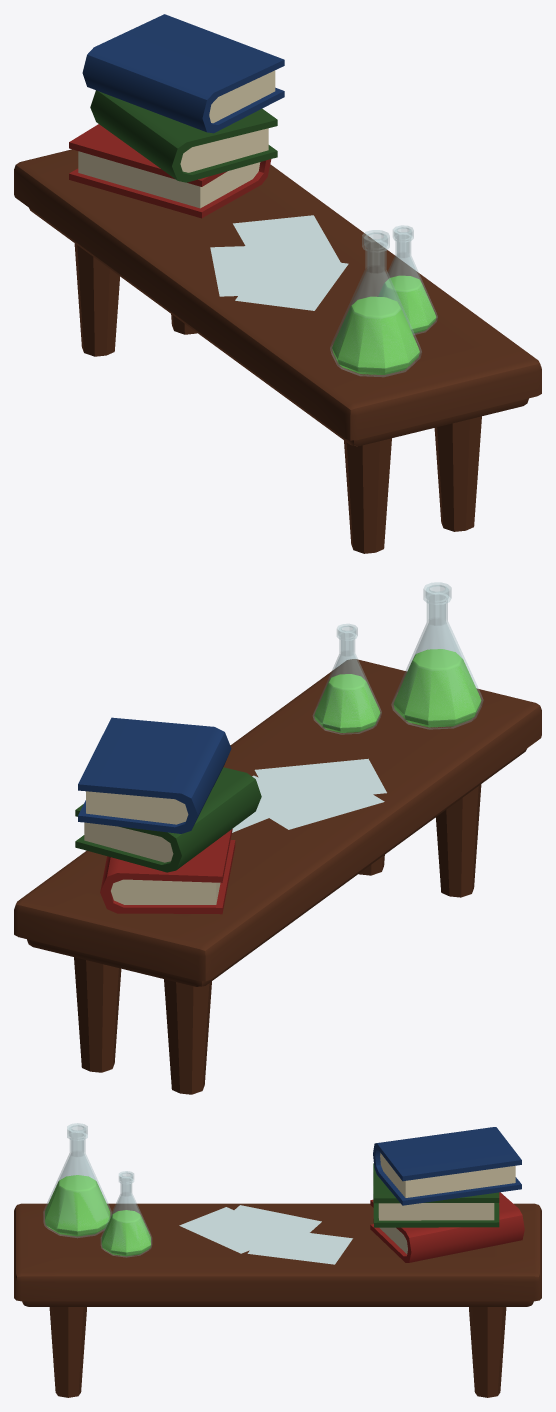
File: TABLE_SET_2.fbx
3 views of the same model, one above another, from view 1: azimuth 30°, elevation 25°; view 2: azimuth 150°, elevation 25°; view 3: azimuth 270°, elevation 25° (orthographic). The views are drawn at different scales.
Visible parts, largest first — view 1: TABLE2, BOOK3, BEAKER (×2), BOOK2, BOOK1, BEAKER_FILL (×2), PAPER_1, PAPER_3, PAPER_2; view 2: TABLE2, BOOK3, BEAKER (×2), BEAKER_FILL (×2), BOOK2, BOOK1, PAPER_1, PAPER_2; view 3: TABLE2, BOOK3, BEAKER (×2), BEAKER_FILL (×2), BOOK1, BOOK2, PAPER_1, PAPER_3, PAPER_2.
Part boxes in pixels (x1,y1,x2,y2): TABLE2: (14, 149, 541, 553); BOOK3: (82, 14, 284, 133); BEAKER (×2): (330, 225, 437, 376); BOOK2: (90, 90, 277, 182); BOOK1: (69, 124, 271, 218); BEAKER_FILL (×2): (332, 275, 436, 374); PAPER_1: (235, 253, 348, 310); PAPER_3: (233, 215, 340, 262); PAPER_2: (210, 244, 295, 296); TABLE2: (14, 659, 541, 1094); BOOK3: (78, 717, 231, 833); BEAKER (×2): (313, 582, 483, 734); BEAKER_FILL (×2): (314, 649, 481, 732); BOOK2: (75, 767, 261, 872); BOOK1: (100, 829, 235, 914); PAPER_1: (254, 758, 386, 804); PAPER_2: (256, 793, 384, 829); TABLE2: (14, 1203, 541, 1397); BOOK3: (373, 1127, 521, 1205); BEAKER (×2): (43, 1123, 151, 1257); BEAKER_FILL (×2): (45, 1175, 150, 1256); BOOK1: (370, 1192, 524, 1262); BOOK2: (373, 1163, 499, 1227); PAPER_1: (179, 1207, 287, 1253); PAPER_3: (247, 1233, 352, 1264); PAPER_2: (234, 1205, 321, 1246).
Size of the model in its own units: 35.95 by 53.04 by 108.
